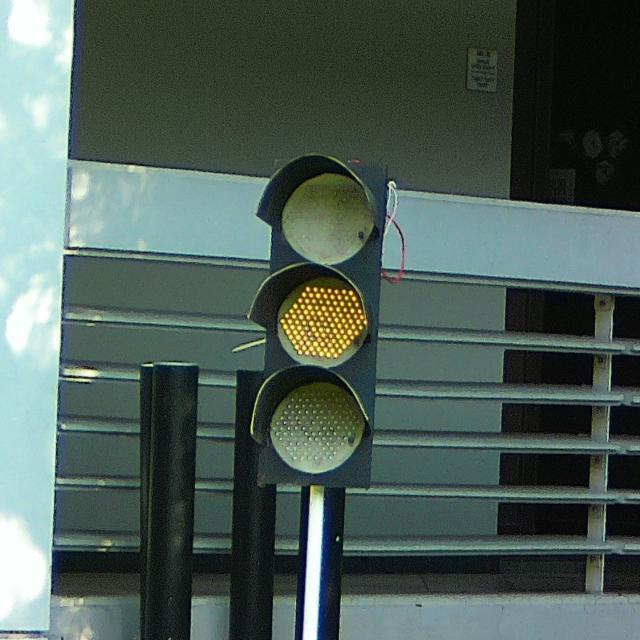yellow_light: (248, 156, 395, 487)
